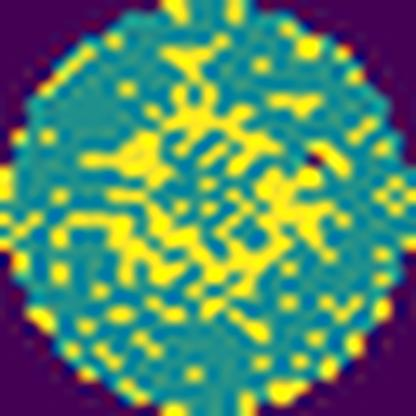Donut: (89, 86, 334, 325)
